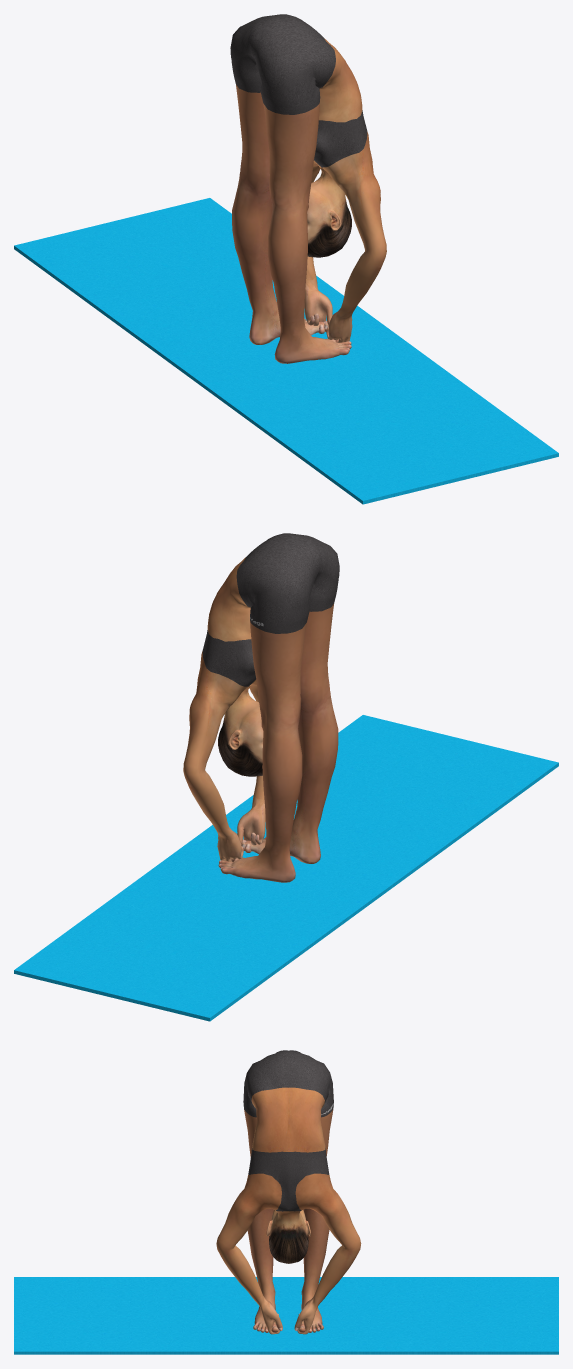
The model's file is padangusthasana.glb.
3 renders of one model, top to bottom at view 1: azimuth 30°, elevation 25°; view 2: azimuth 150°, elevation 25°; view 3: azimuth 270°, elevation 25°, orthographic. The views are drawn at different scales.
Visible parts, largest first — view 1: mat_001-material, FemaleSkin-material; view 2: mat_001-material, FemaleSkin-material; view 3: mat_001-material, FemaleSkin-material.
Boxes of the visible parts, left/top/right/bottom form: mat_001-material: left=14, top=198, right=558, bottom=504; FemaleSkin-material: left=230, top=14, right=386, bottom=363; mat_001-material: left=14, top=715, right=558, bottom=1021; FemaleSkin-material: left=183, top=533, right=339, bottom=882; mat_001-material: left=14, top=1277, right=558, bottom=1354; FemaleSkin-material: left=216, top=1050, right=361, bottom=1334.
Size of the model in its own units: 2 by 3.26 by 6.17.
2 materials, 2 textured.
